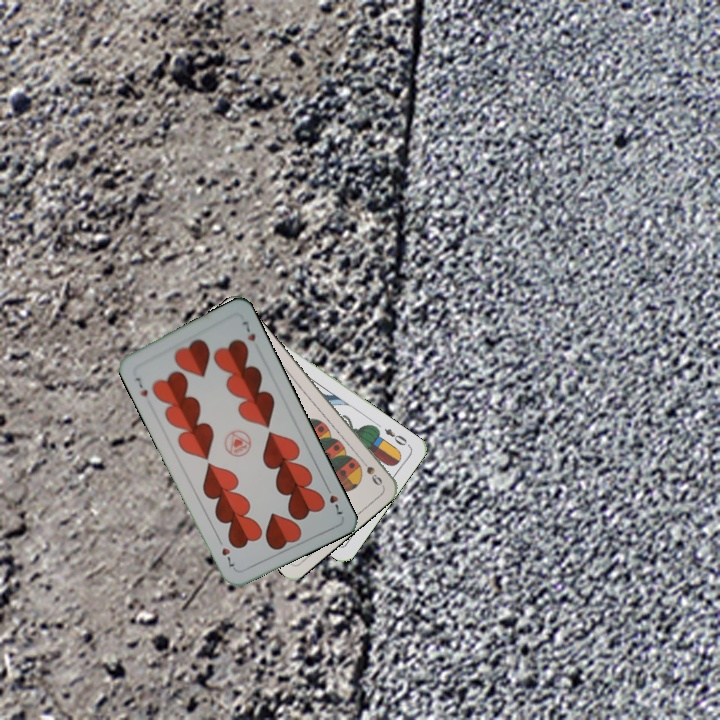EO: (380, 424, 410, 448)
H7: (321, 481, 346, 517), (131, 373, 150, 400)
S9: (355, 453, 385, 488)
